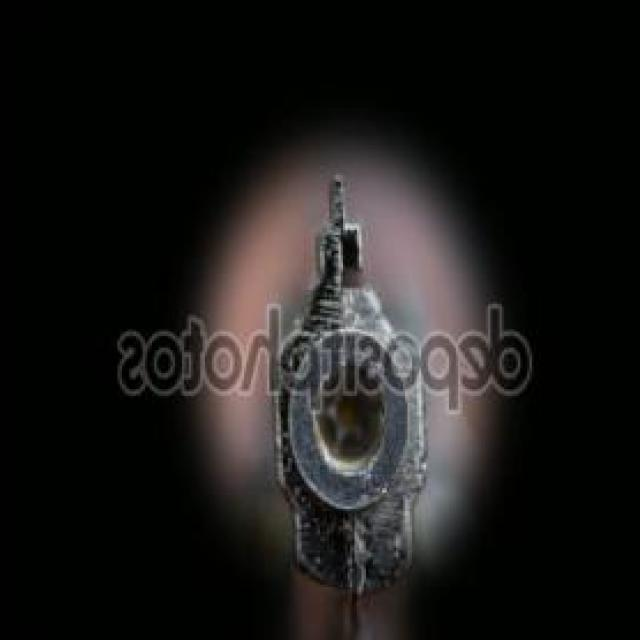pistol: (267, 138, 433, 640)
